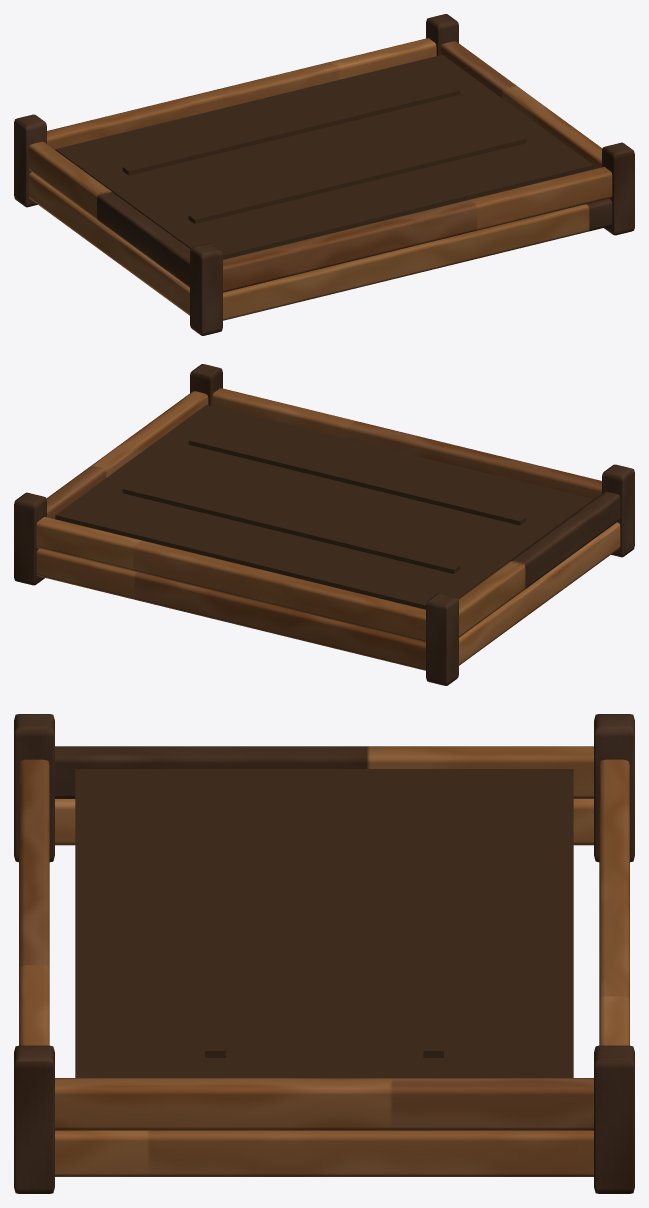
Rendered from farm_bed_seeded.glb.
The picture shows the model from 3 angles, top to bottom: view 1: azimuth 30°, elevation 25°; view 2: azimuth 150°, elevation 25°; view 3: azimuth 270°, elevation 25°; orthographic projection. The views are drawn at different scales.
Parts seen in each view (by area): view 1: Soil_Surface, Frame_Front.001, Frame_Front, Frame_Back.001, Frame_Left.001, Frame_Left, Frame_Right.001, Soil_Furrow, Soil_Furrow.001, Frame_CornerPost.001, Frame_CornerPost.003, Frame_CornerPost (+1 smaller); view 2: Soil_Surface, Frame_Back.001, Frame_Back, Frame_Front.001, Frame_Left.001, Frame_Left, Frame_Right.001, Soil_Furrow.001, Soil_Furrow, Frame_CornerPost, Frame_CornerPost.002, Frame_CornerPost.001 (+1 smaller); view 3: Soil_Surface, Frame_Right.001, Frame_Right, Frame_Left.001, Frame_Back.001, Frame_Front.001, Frame_CornerPost.002, Frame_CornerPost.003, Soil_Furrow, Soil_Furrow.001, Frame_CornerPost, Frame_CornerPost.001 (+1 smaller).
Part boxes in pixels (box(x1,y1,x2,y2)): Soil_Surface: box(55, 54, 593, 259); Frame_Front.001: box(223, 167, 612, 292); Frame_Front: box(223, 198, 612, 320); Frame_Back.001: box(47, 38, 436, 149); Frame_Left.001: box(28, 141, 190, 287); Frame_Left: box(28, 172, 189, 315); Frame_Right.001: box(440, 41, 602, 168); Soil_Furrow: box(122, 86, 460, 175); Soil_Furrow.001: box(188, 134, 526, 223); Frame_CornerPost.001: box(190, 243, 222, 335); Frame_CornerPost.003: box(602, 142, 634, 235); Frame_CornerPost: box(14, 114, 46, 207); Soil_Surface: box(55, 404, 593, 609); Frame_Back.001: box(36, 517, 425, 642); Frame_Back: box(36, 548, 425, 670); Frame_Front.001: box(212, 388, 601, 499); Frame_Left.001: box(458, 491, 620, 637); Frame_Left: box(459, 522, 620, 665); Frame_Right.001: box(46, 391, 208, 518); Soil_Furrow.001: box(188, 436, 526, 525); Soil_Furrow: box(122, 484, 460, 573); Frame_CornerPost: box(426, 593, 458, 685); Frame_CornerPost.002: box(14, 492, 46, 585); Frame_CornerPost.001: box(602, 464, 634, 557); Soil_Surface: box(75, 769, 573, 1077); Frame_Right.001: box(55, 1078, 593, 1130); Frame_Right: box(55, 1130, 593, 1176); Frame_Left.001: box(55, 746, 593, 798); Frame_Back.001: box(599, 759, 629, 1045); Frame_Front.001: box(19, 759, 49, 1045); Frame_CornerPost.002: box(594, 1045, 634, 1193); Frame_CornerPost.003: box(14, 1045, 54, 1193); Soil_Furrow: box(423, 784, 443, 1057); Soil_Furrow.001: box(205, 784, 225, 1057); Frame_CornerPost: box(594, 714, 634, 862); Frame_CornerPost.001: box(14, 714, 54, 862).
Bounding box in the file's own units: 2.42 × 0.44 × 1.82.
Materials: 3 (3 with a texture image).
